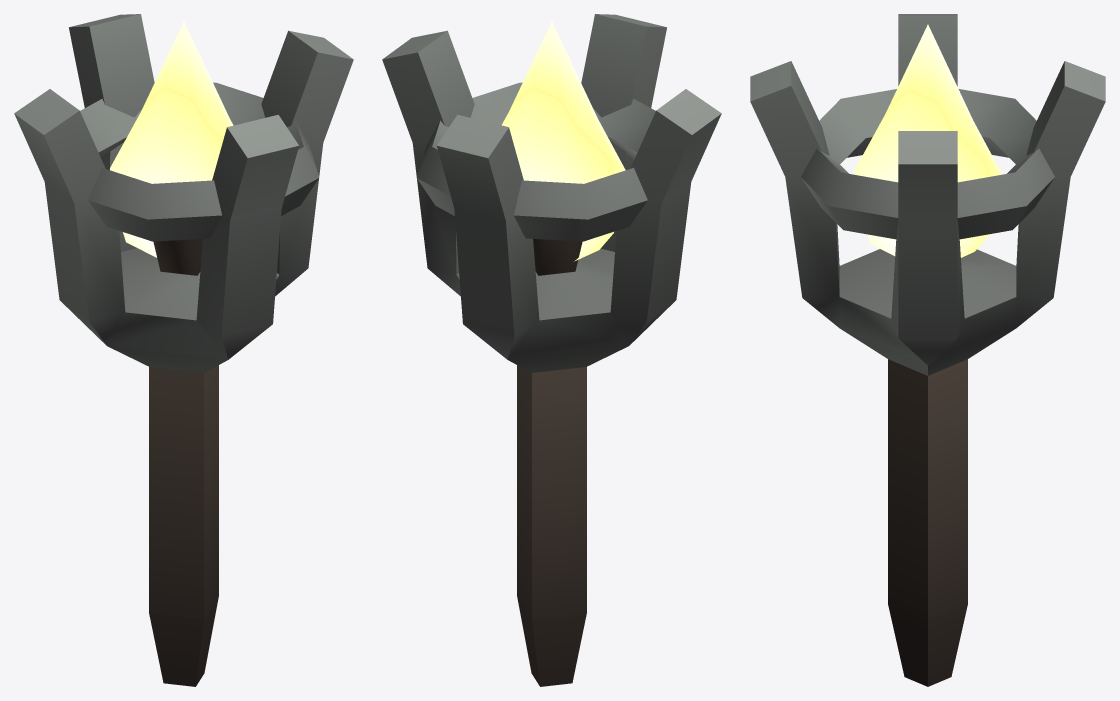
The model's file is torch-lit.glb.
3 views of the same model, side by side, from view 1: azimuth 30°, elevation 25°; view 2: azimuth 150°, elevation 25°; view 3: azimuth 270°, elevation 25° (orthographic).
Parts seen in each view (by area): view 1: torch-lit; view 2: torch-lit; view 3: torch-lit.
Part boxes in pixels (bbox=[...]): torch-lit: bbox=[14, 14, 353, 686]; torch-lit: bbox=[382, 14, 721, 686]; torch-lit: bbox=[750, 14, 1105, 686].
Bounding box in the file's own units: 0.2933 × 0.6 × 0.2933.
